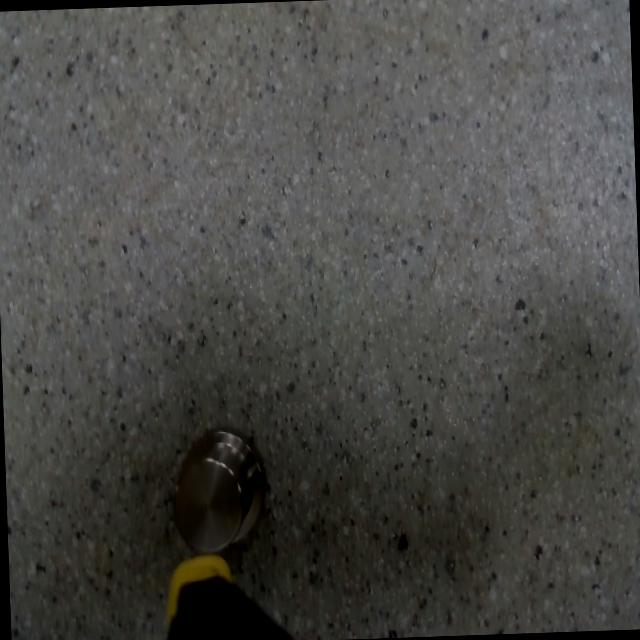sensor: (168, 426, 268, 554)
